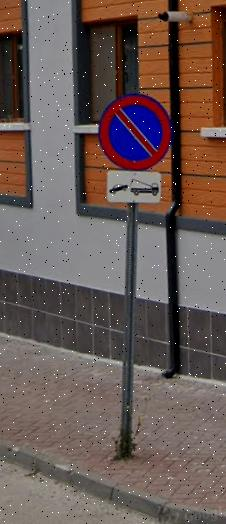nopark: (99, 91, 169, 172)
